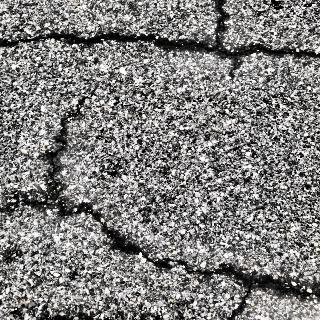crack: (46, 94, 300, 320), (2, 22, 320, 72)
